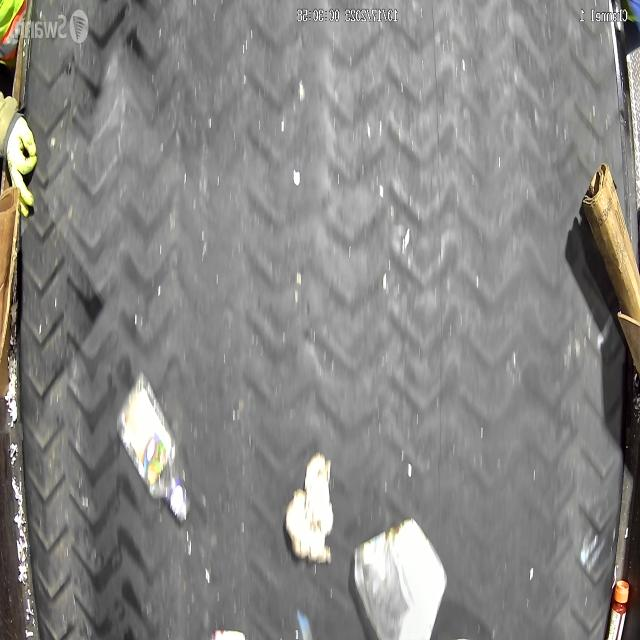plastic_bottle: (115, 373, 189, 524)
